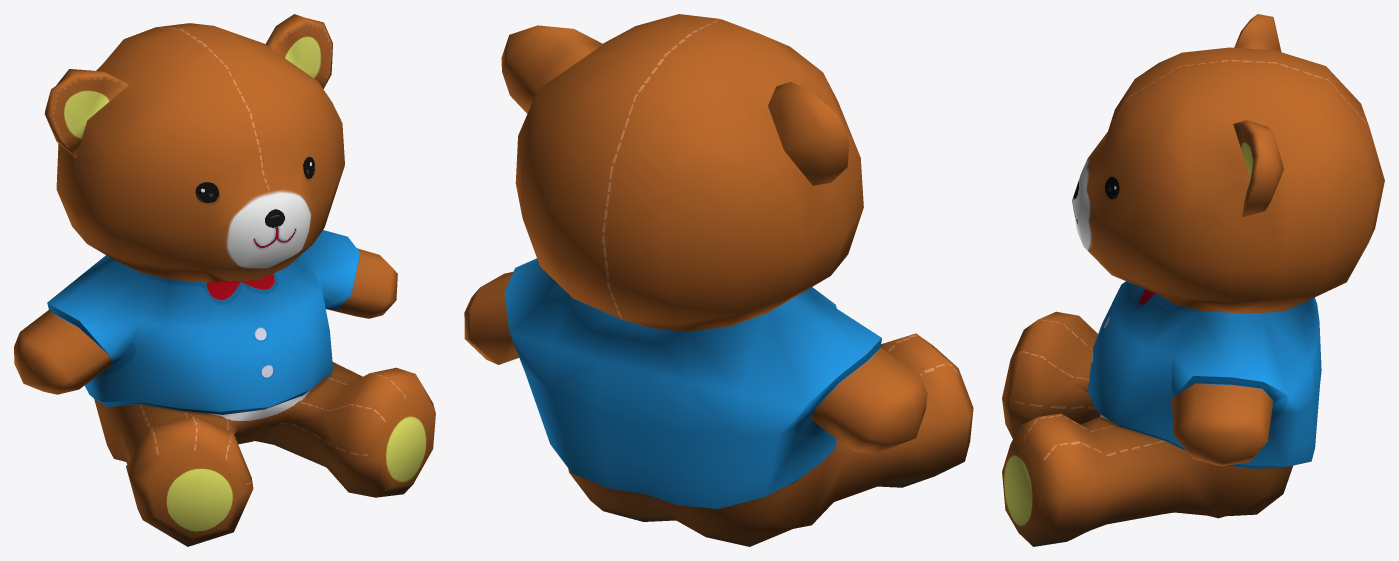
File: TeddyBear.fbx
The picture shows the model from 3 angles, left to right: view 1: azimuth 30°, elevation 25°; view 2: azimuth 150°, elevation 25°; view 3: azimuth 270°, elevation 25°; orthographic projection. The views are drawn at different scales.
Parts seen in each view (by area): view 1: 083; view 2: 083; view 3: 083.
Boxes of the visible parts, <box> form: 083: <box>14,14,435,546</box>; 083: <box>464,14,973,546</box>; 083: <box>1002,14,1384,546</box>.
Size of the model in its own units: 58.63 by 62.22 by 50.06.
Materials: 1 (1 with a texture image).
